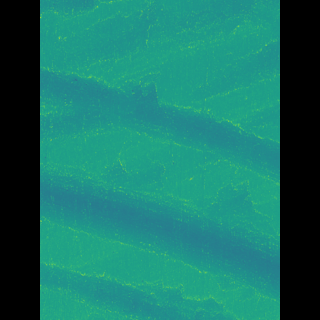Loch: (71, 154, 250, 307), (69, 60, 249, 189), (69, 253, 217, 320)
